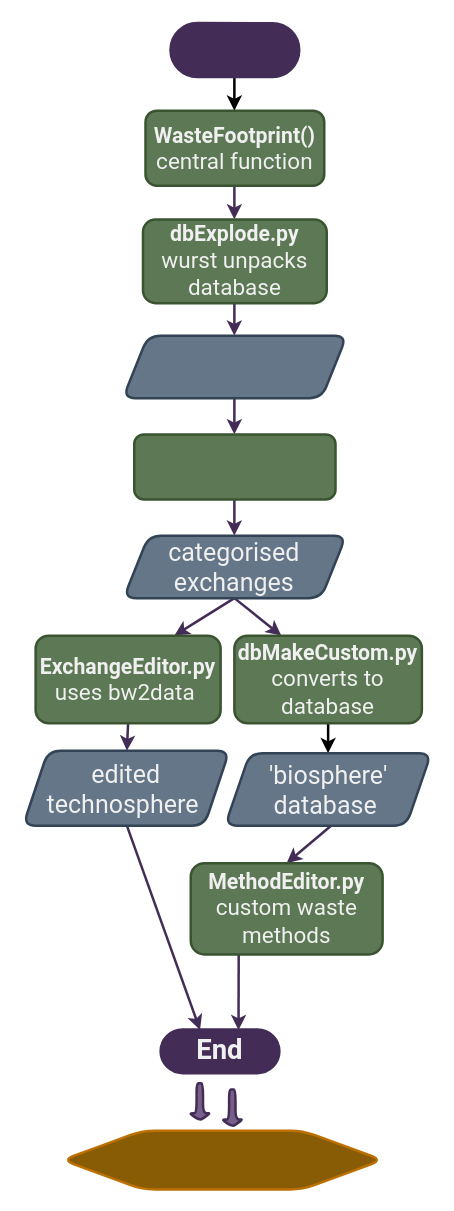
Some shapes in this 454 by 1211 pixel diagram are drawn without their labels. Here are the shapes that lost their labels. From the top down, the box of each, then its label:
(169, 21, 300, 78): Start
(121, 334, 347, 399): a list of all exchanges
(132, 432, 336, 500): WasteSearch.py filters exchanges
(60, 1129, 383, 1190): Application in LCIA
